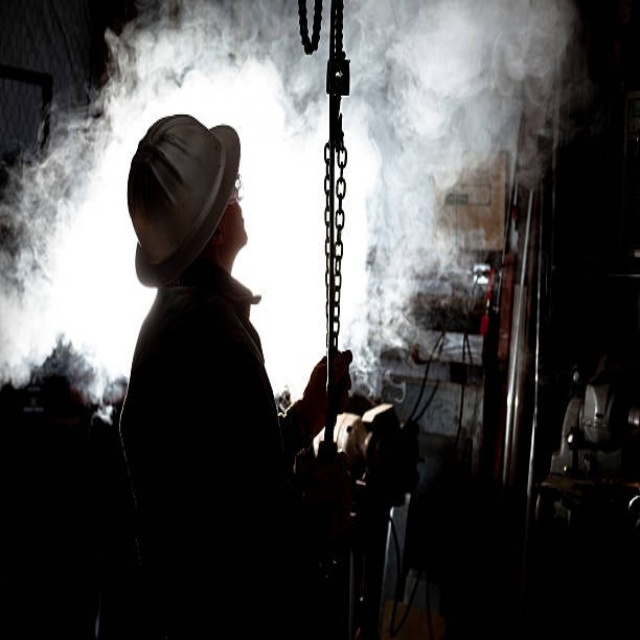Gafas: (231, 173, 244, 202)
Sin_mascara: (221, 198, 248, 262), (250, 294, 262, 305)
